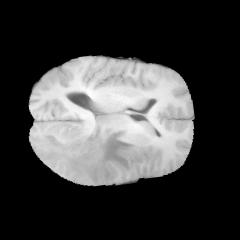glioma: (37, 128, 134, 184)
